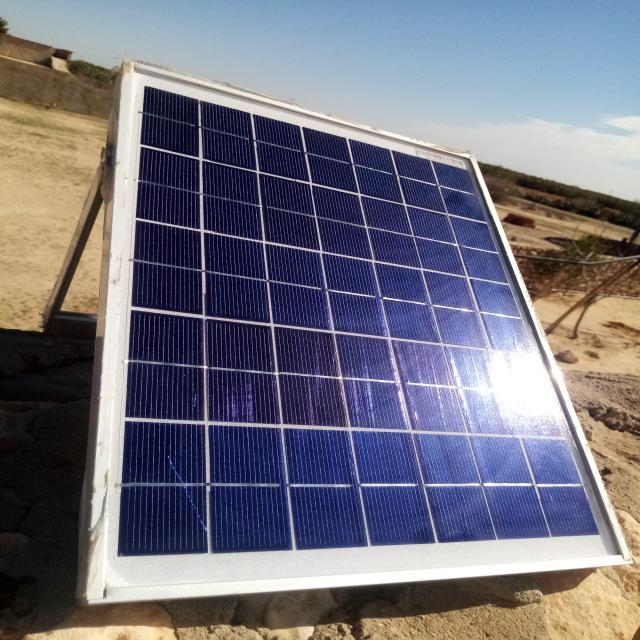no faulty: (80, 65, 632, 598)
